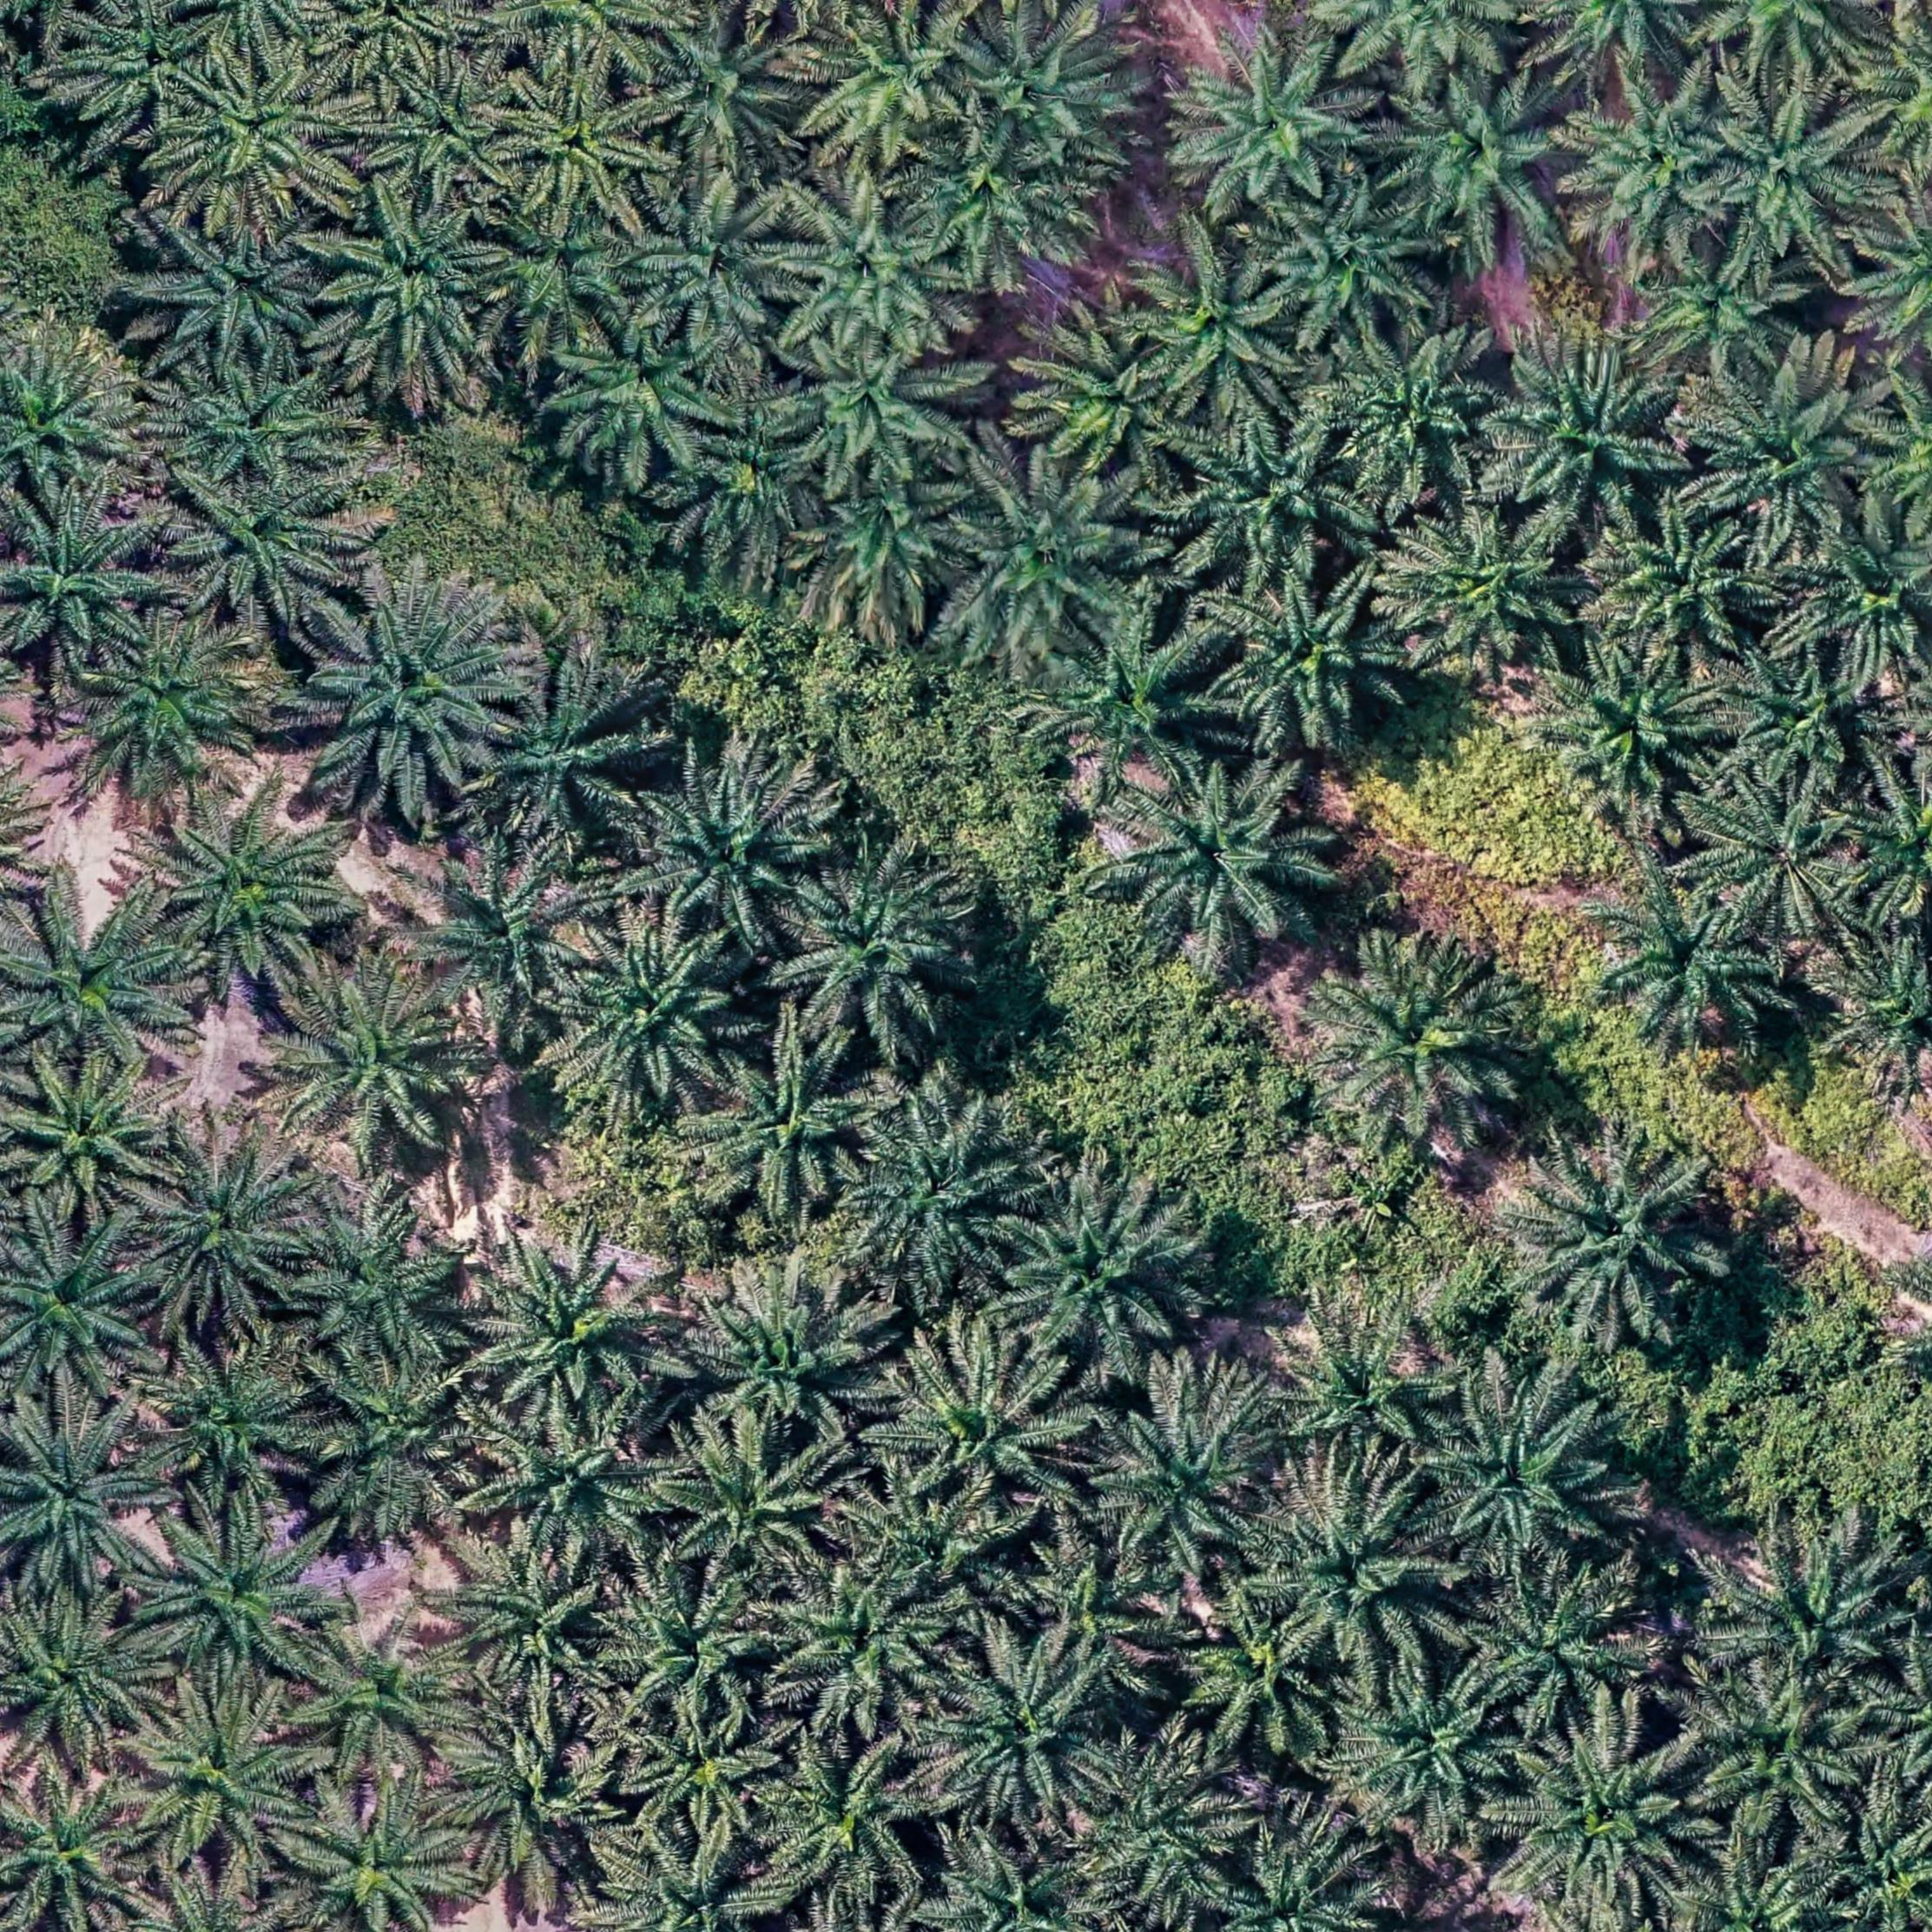palmtree: (290, 577, 531, 804), (1309, 946, 1520, 1176), (456, 1214, 672, 1418), (1164, 16, 1380, 216), (944, 448, 1151, 653), (1369, 59, 1590, 252), (1077, 1379, 1283, 1584), (1110, 755, 1327, 949), (138, 782, 346, 982), (1480, 327, 1691, 524), (990, 1173, 1203, 1368), (1508, 1143, 1720, 1337), (1494, 1721, 1709, 1913), (132, 1499, 343, 1691), (266, 957, 467, 1157), (873, 1327, 1088, 1513), (1234, 1470, 1443, 1660), (669, 1265, 887, 1448), (778, 846, 976, 1042), (394, 838, 603, 1023), (626, 760, 828, 949), (1205, 564, 1412, 749), (1420, 1381, 1619, 1573), (676, 1032, 874, 1221), (120, 1683, 318, 1871), (1525, 636, 1727, 818), (295, 1344, 488, 1535), (926, 1632, 1120, 1822), (1676, 780, 1876, 960), (132, 1127, 321, 1318), (432, 1701, 629, 1885), (75, 617, 273, 799), (770, 185, 969, 366), (1551, 65, 1739, 255), (1690, 353, 1883, 538), (1592, 867, 1788, 1050), (554, 914, 745, 1101), (1120, 233, 1304, 425), (1693, 75, 1884, 258), (1329, 1654, 1522, 1833), (1711, 1520, 1910, 1693), (765, 1561, 961, 1736), (1033, 615, 1221, 797), (1257, 1296, 1444, 1478), (318, 194, 507, 373), (1162, 411, 1376, 568), (1387, 498, 1582, 669), (280, 1190, 466, 1368), (950, 5, 1143, 175), (750, 1733, 945, 1902), (1171, 1586, 1353, 1765), (1467, 1557, 1657, 1728), (590, 1559, 781, 1728), (5, 890, 188, 1067), (431, 1525, 619, 1697), (469, 1393, 665, 1558), (162, 351, 364, 509), (1320, 322, 1505, 494), (1004, 1532, 1181, 1711), (285, 1609, 468, 1781), (0, 1400, 157, 1599), (625, 181, 804, 356), (651, 1420, 843, 1582), (1586, 491, 1773, 656), (1258, 169, 1439, 340), (271, 1781, 471, 1932), (139, 1330, 320, 1498), (1709, 640, 1899, 798), (847, 1116, 1027, 1281), (1016, 321, 1194, 484), (553, 311, 728, 473), (166, 49, 345, 208), (162, 471, 348, 622), (0, 1216, 155, 1395), (475, 673, 646, 836), (782, 340, 968, 491), (8, 1057, 179, 1219), (142, 215, 322, 368), (1078, 1755, 1250, 1914), (1788, 491, 1932, 678), (0, 1594, 161, 1759), (800, 0, 983, 143), (618, 1696, 792, 1846), (1633, 235, 1804, 387), (643, 12, 808, 168), (0, 491, 155, 658), (1699, 1682, 1871, 1831), (804, 465, 973, 617), (0, 1763, 153, 1927), (360, 57, 523, 206), (908, 129, 1071, 274), (675, 396, 826, 551), (498, 73, 654, 221), (0, 346, 137, 511), (582, 1825, 779, 1932), (914, 1829, 1108, 1932), (70, 0, 210, 122)
